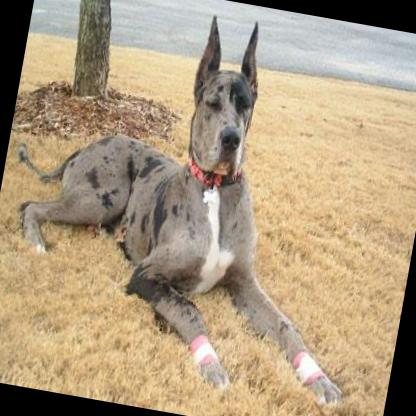Great_Dane: (0, 0, 410, 412)
